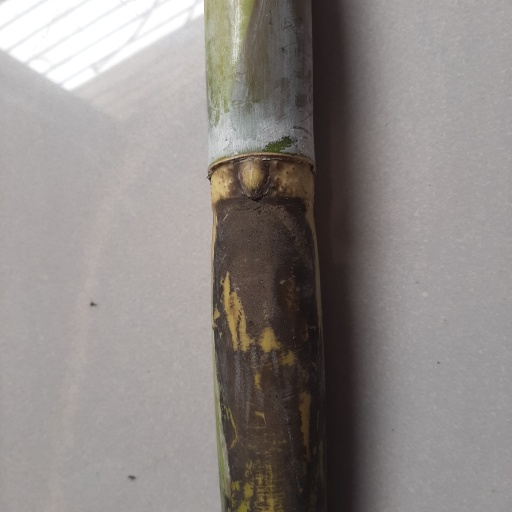Bud: (236, 158, 269, 200)
